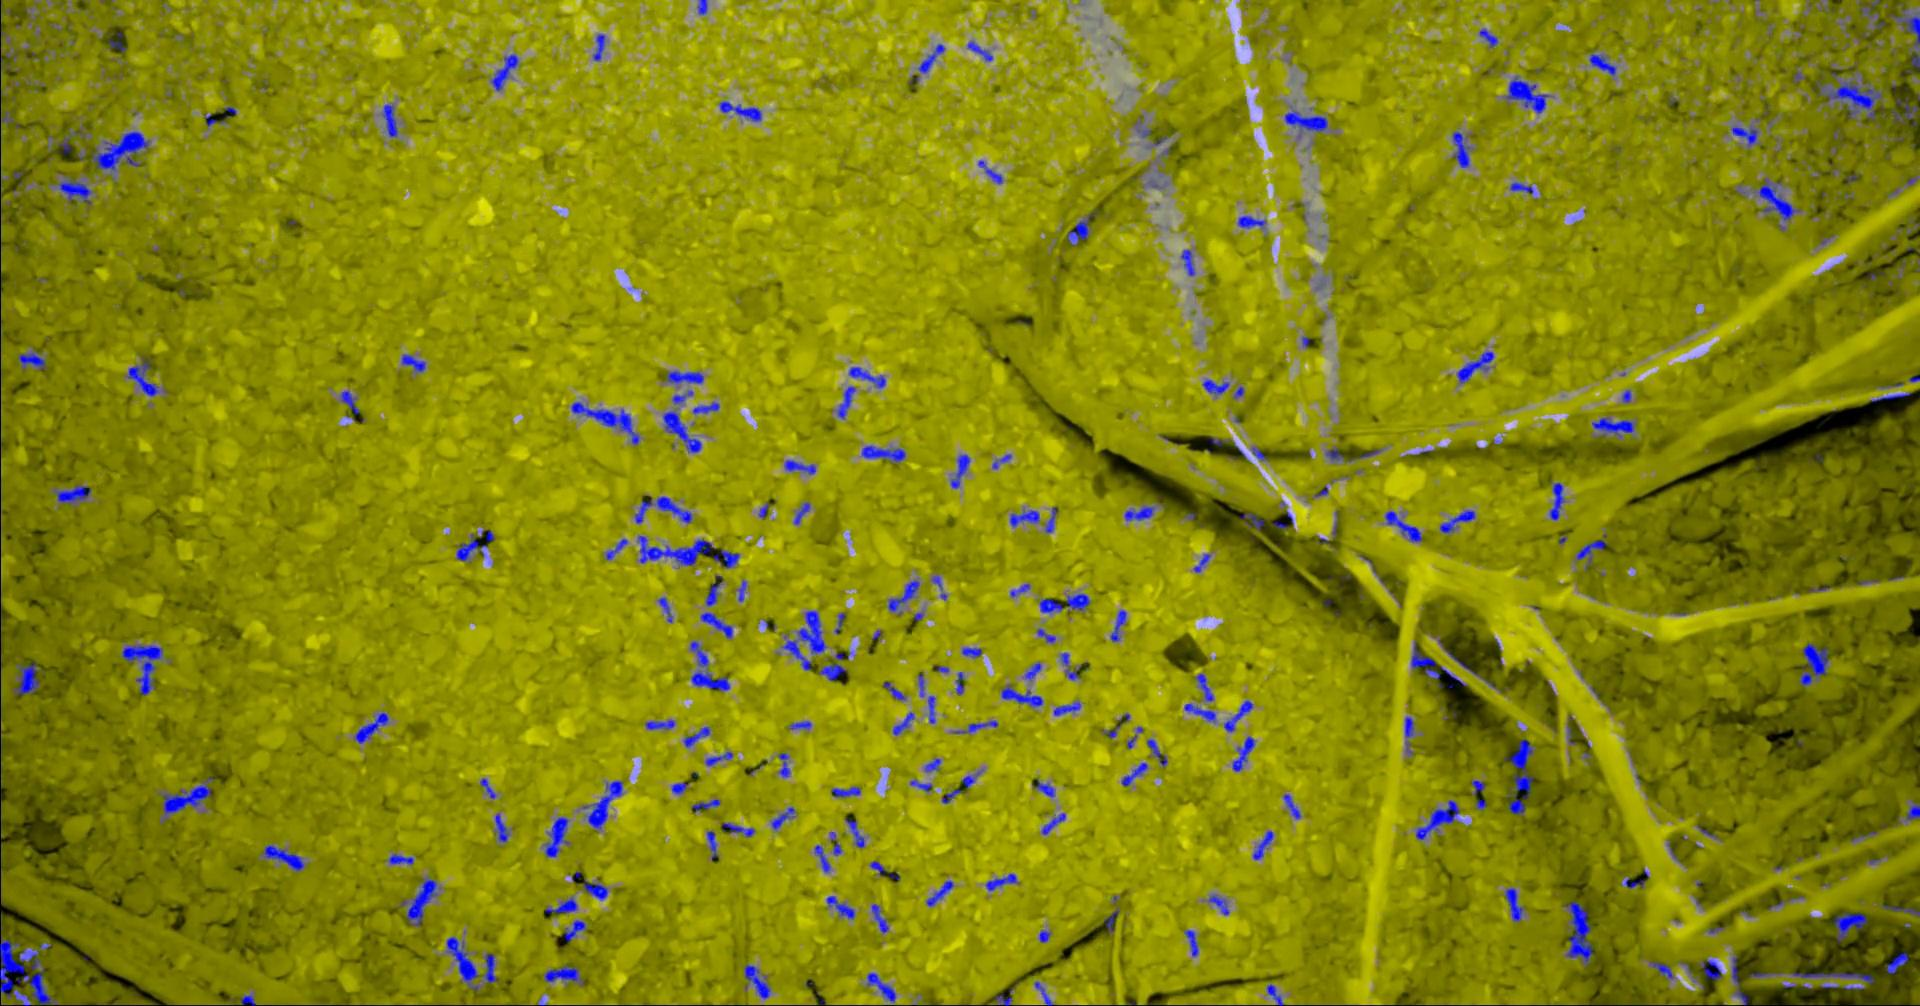ant: (571, 401, 639, 445), (446, 936, 497, 989), (1812, 80, 1881, 119), (781, 610, 825, 669), (637, 535, 715, 567), (160, 777, 213, 823), (1503, 738, 1533, 815), (121, 644, 163, 694), (582, 780, 623, 829), (1888, 3, 1919, 69), (1562, 901, 1592, 967), (690, 640, 729, 690), (1415, 799, 1459, 840), (1757, 178, 1801, 218), (662, 410, 701, 452), (1505, 75, 1548, 113), (634, 495, 692, 523), (405, 876, 436, 925), (1799, 643, 1829, 686), (456, 528, 494, 561), (126, 357, 157, 396), (1457, 351, 1493, 384), (262, 843, 303, 871), (1575, 533, 1606, 570), (1384, 511, 1422, 541), (888, 579, 919, 615), (1410, 641, 1440, 678), (1832, 911, 1867, 942), (353, 713, 389, 743), (1790, 970, 1873, 983), (1067, 210, 1096, 245), (490, 55, 518, 90), (999, 683, 1043, 706), (543, 817, 568, 857), (1443, 648, 1478, 674), (58, 177, 91, 205), (13, 662, 41, 695), (1223, 700, 1252, 730), (818, 652, 850, 680), (1284, 111, 1327, 131), (744, 964, 770, 998), (1230, 735, 1255, 771), (866, 972, 895, 1001), (719, 100, 761, 121), (1591, 417, 1636, 436), (1439, 511, 1476, 533), (543, 964, 584, 984), (1731, 955, 1747, 1005), (1891, 97, 1919, 126), (700, 612, 731, 638), (848, 366, 885, 387), (861, 445, 905, 462), (917, 43, 943, 72), (825, 895, 855, 920), (53, 484, 90, 503), (1102, 713, 1129, 738), (926, 880, 952, 906), (57, 130, 85, 154), (950, 453, 969, 488), (1503, 887, 1523, 921), (1451, 131, 1469, 166), (1549, 479, 1564, 520), (1121, 762, 1147, 786), (836, 386, 855, 418), (1183, 702, 1215, 721), (1589, 53, 1617, 75), (18, 348, 46, 370), (1252, 829, 1272, 859), (1109, 608, 1126, 641), (543, 895, 577, 913), (977, 160, 1002, 183), (952, 720, 998, 733), (1731, 124, 1757, 146), (985, 873, 1017, 890), (844, 818, 863, 847), (770, 807, 794, 829), (966, 39, 992, 61), (582, 878, 607, 899), (683, 727, 710, 747), (1145, 739, 1166, 766), (665, 370, 703, 384), (1060, 652, 1079, 680), (891, 713, 914, 735), (1041, 813, 1065, 835), (1884, 951, 1909, 973), (712, 547, 739, 567), (705, 575, 721, 606), (1879, 903, 1919, 916), (1195, 673, 1213, 701), (563, 920, 585, 941), (382, 104, 397, 136), (783, 459, 815, 474), (1010, 509, 1039, 526), (814, 843, 830, 873), (871, 903, 888, 932), (604, 539, 627, 559), (1698, 960, 1721, 981), (721, 822, 754, 836), (340, 390, 359, 414), (1034, 981, 1053, 1005), (1283, 793, 1300, 818), (401, 354, 425, 372), (1239, 512, 1263, 530), (1201, 379, 1229, 394), (1208, 894, 1228, 915), (107, 30, 126, 52), (1124, 506, 1153, 520), (494, 813, 508, 842), (792, 502, 810, 525), (883, 681, 905, 699), (1065, 593, 1090, 610), (703, 751, 731, 765), (1183, 929, 1197, 956), (1103, 908, 1119, 934), (1032, 779, 1054, 796), (1650, 962, 1672, 978), (1180, 249, 1194, 276), (1053, 701, 1079, 715), (1237, 215, 1266, 227), (931, 575, 946, 600), (1858, 0, 1879, 17), (657, 597, 670, 622), (691, 799, 719, 812), (1870, 392, 1910, 401), (1479, 28, 1497, 47), (592, 33, 604, 60), (1044, 506, 1057, 532), (1192, 553, 1210, 572), (1404, 716, 1413, 754), (994, 987, 1013, 1005), (1509, 180, 1533, 194), (1266, 984, 1283, 1005), (1039, 598, 1062, 612), (706, 829, 717, 857), (1023, 662, 1041, 680), (961, 771, 980, 788), (479, 779, 495, 798), (692, 401, 719, 413), (645, 719, 674, 729), (830, 786, 860, 796), (992, 453, 1011, 469), (777, 752, 789, 777), (941, 788, 960, 803), (672, 390, 692, 404), (829, 831, 841, 855), (909, 779, 931, 791), (1010, 583, 1029, 597), (1036, 627, 1055, 641), (204, 113, 225, 126), (869, 860, 885, 875), (1905, 801, 1919, 819), (389, 854, 413, 864), (1324, 447, 1343, 460), (1624, 876, 1644, 888), (834, 612, 844, 634), (927, 695, 935, 723), (924, 758, 940, 772), (1470, 780, 1484, 795), (1749, 970, 1782, 977), (961, 647, 982, 657), (955, 671, 964, 694), (789, 720, 811, 729), (670, 782, 688, 794), (1251, 447, 1266, 460), (737, 580, 745, 601), (0, 111, 14, 123), (917, 673, 924, 696), (1039, 929, 1050, 942), (240, 995, 255, 1005), (697, 0, 707, 14), (0, 730, 1, 786)
